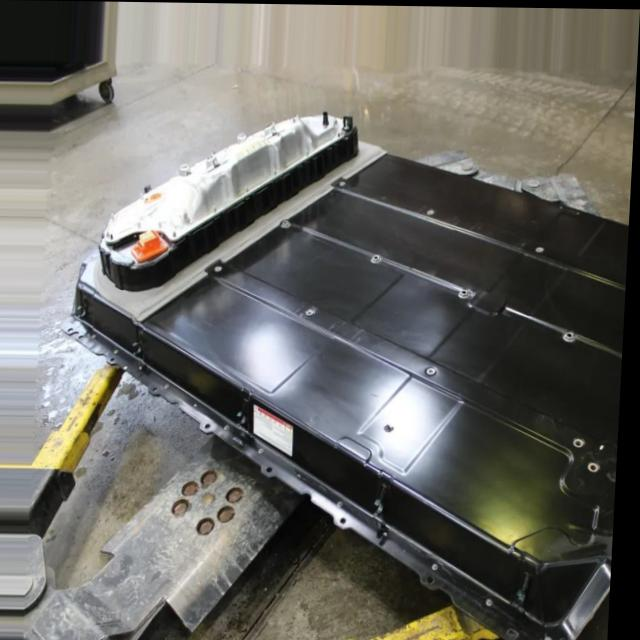Bolt: (342, 494, 353, 510), (487, 594, 501, 606), (434, 559, 448, 571)
Nut: (276, 209, 295, 235), (563, 317, 578, 344), (455, 280, 475, 299), (369, 248, 387, 267)
Screw: (425, 358, 444, 379), (587, 454, 605, 474), (300, 302, 320, 319), (574, 427, 589, 448)
